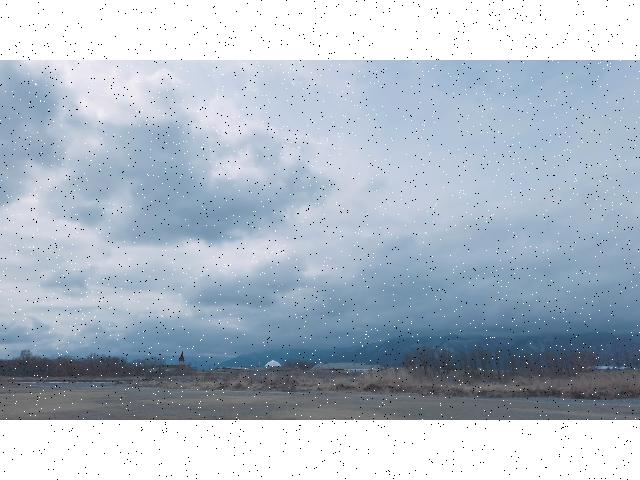Anti-Drone: (274, 281, 288, 289)
